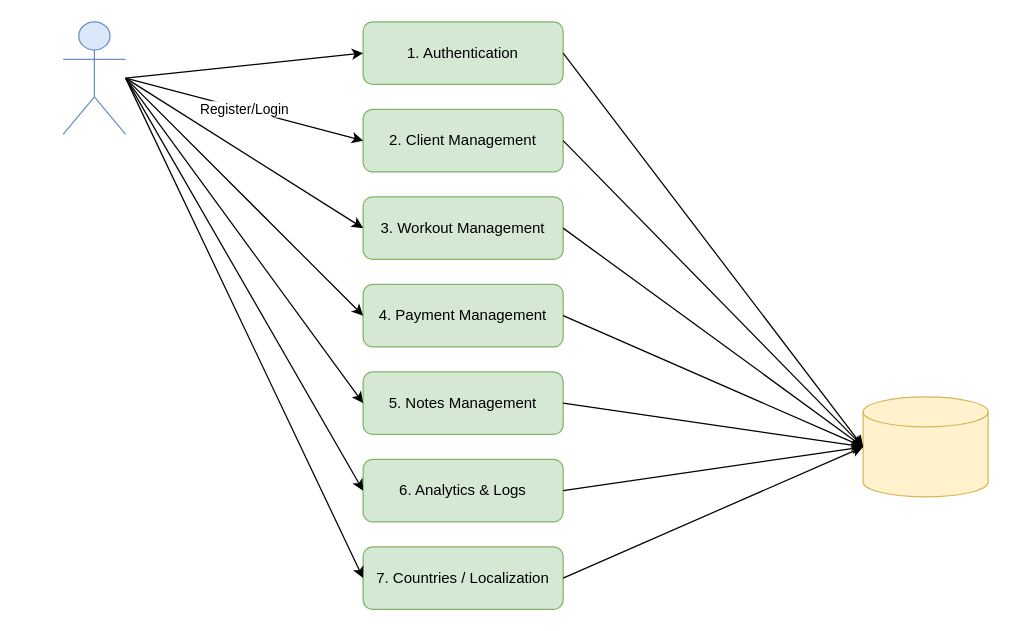
Image size: 1010x631. Some labels were removed from this diagram. Each missing label, with the box of its shape:
MongoDB: (862, 396, 988, 497)
User / Trainer / Admin: (62, 21, 126, 134)
